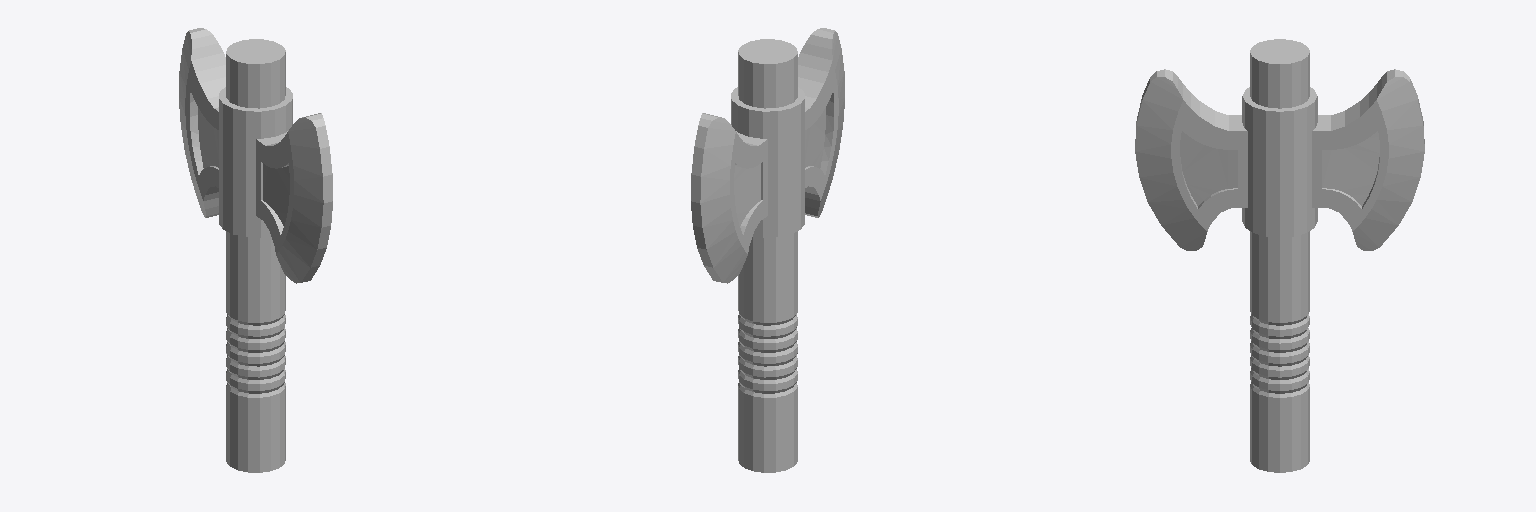
The model's file is Microfig_Axe.obj.
3 views of the same model, side by side, from view 1: azimuth 30°, elevation 25°; view 2: azimuth 150°, elevation 25°; view 3: azimuth 270°, elevation 25° (orthographic).
Parts seen in each view (by area): view 1: Axe; view 2: Axe; view 3: Axe.
Part boxes in pixels (x1,y1,x2,y2): Axe: (179, 28, 332, 472); Axe: (691, 28, 844, 472); Axe: (1135, 39, 1424, 472).
Size of the model in its own units: 4 by 24 by 15.43.